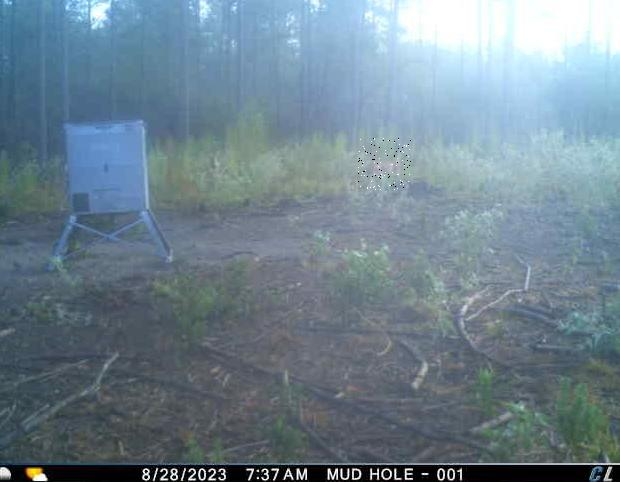Deer: (359, 139, 412, 191)
